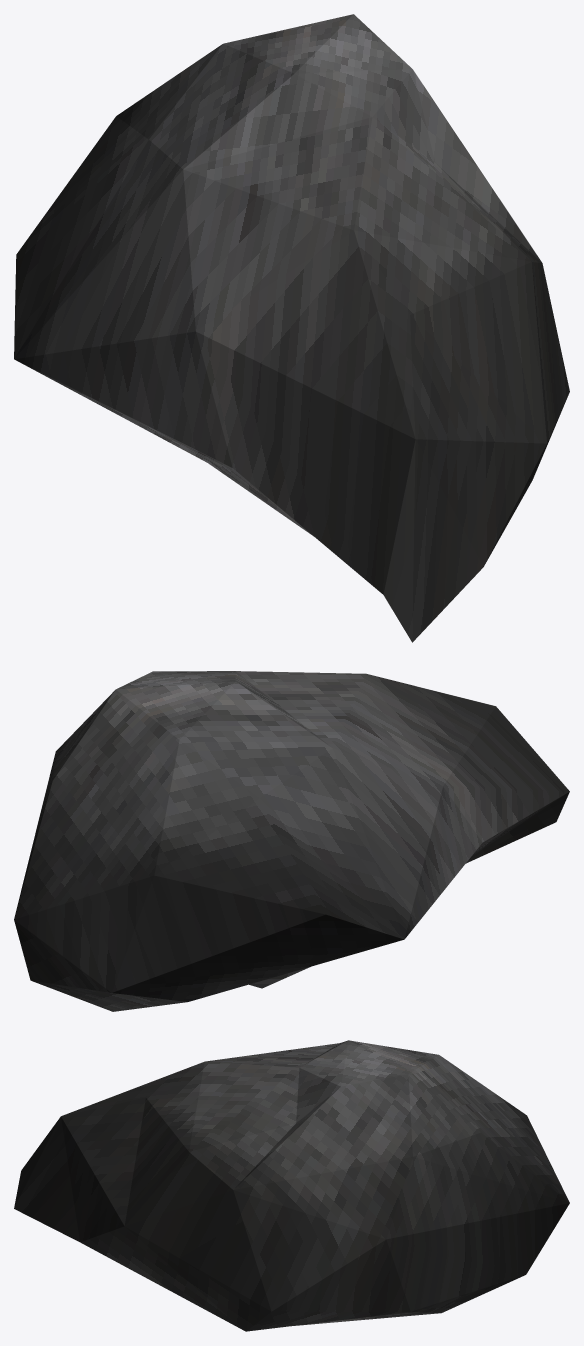
File: stoneMediumFlatV2.glb
3 renders of one model, top to bottom at view 1: azimuth 30°, elevation 25°; view 2: azimuth 150°, elevation 25°; view 3: azimuth 270°, elevation 25°, orthographic. The views are drawn at different scales.
Parts seen in each view (by area): view 1: Icosphere.004; view 2: Icosphere.004; view 3: Icosphere.004.
Part boxes in pixels (x1,y1,x2,y2): Icosphere.004: (14, 14, 569, 642); Icosphere.004: (14, 671, 569, 1011); Icosphere.004: (14, 1040, 569, 1331).
Bounding box in the file's own units: 4.26 × 3.56 × 6.93.
Materials: 1 (1 with a texture image).
